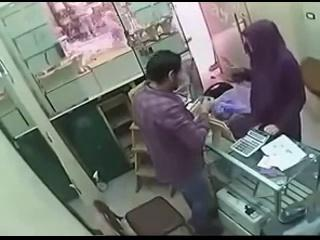Normal: (131, 50, 222, 232), (93, 196, 193, 236), (230, 127, 271, 158)
